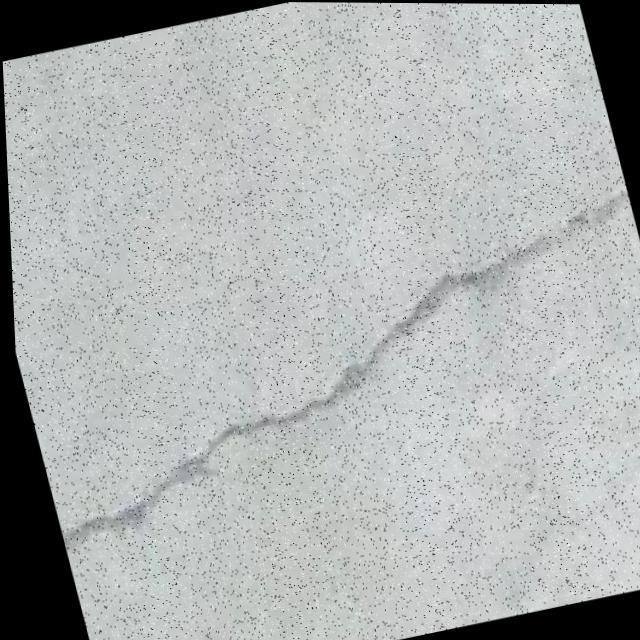Crack: (6, 169, 640, 568)
